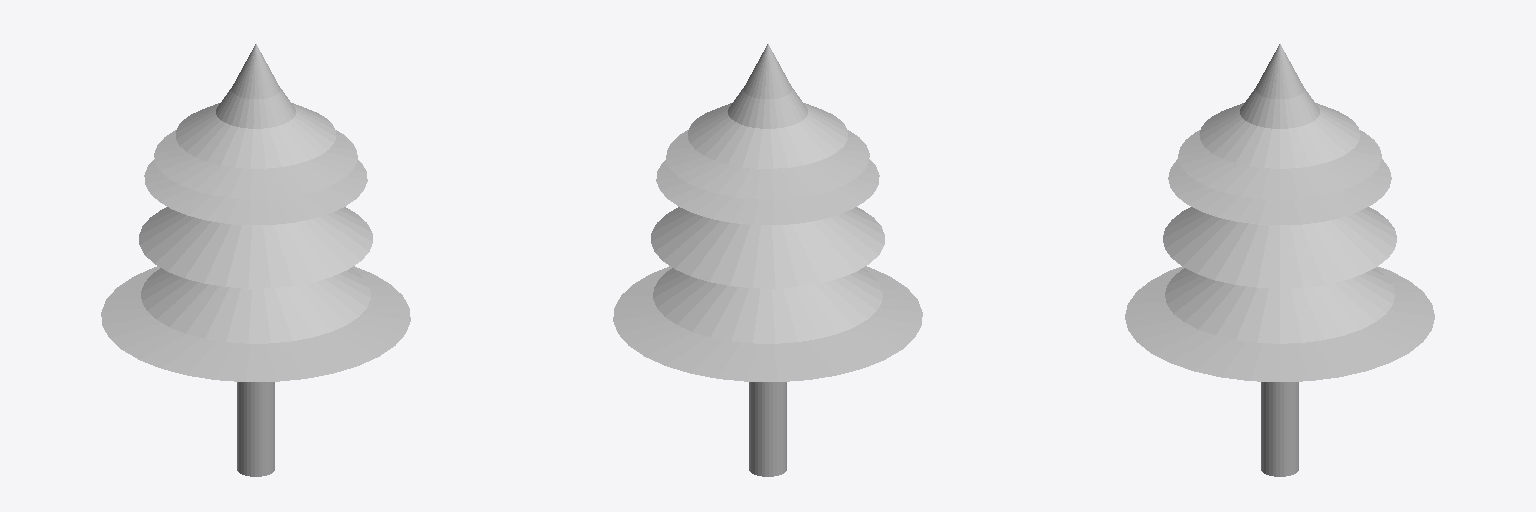
The model's file is tree.obj.
The picture shows the model from 3 angles: view 1: azimuth 30°, elevation 25°; view 2: azimuth 150°, elevation 25°; view 3: azimuth 270°, elevation 25°; orthographic projection.
Parts seen in each view (by area): view 1: Cylinder; view 2: Cylinder; view 3: Cylinder.
Boxes of the visible parts, x1,y1,x2,y2 form: Cylinder: [101, 44, 410, 476]; Cylinder: [613, 44, 922, 476]; Cylinder: [1125, 44, 1434, 476].
Bounding box in the file's own units: 1.6 × 2.42 × 1.6.